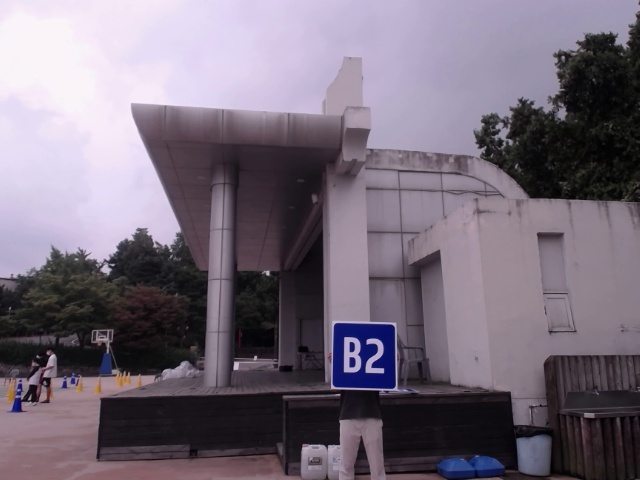delivery_b2: (333, 320, 398, 390)
